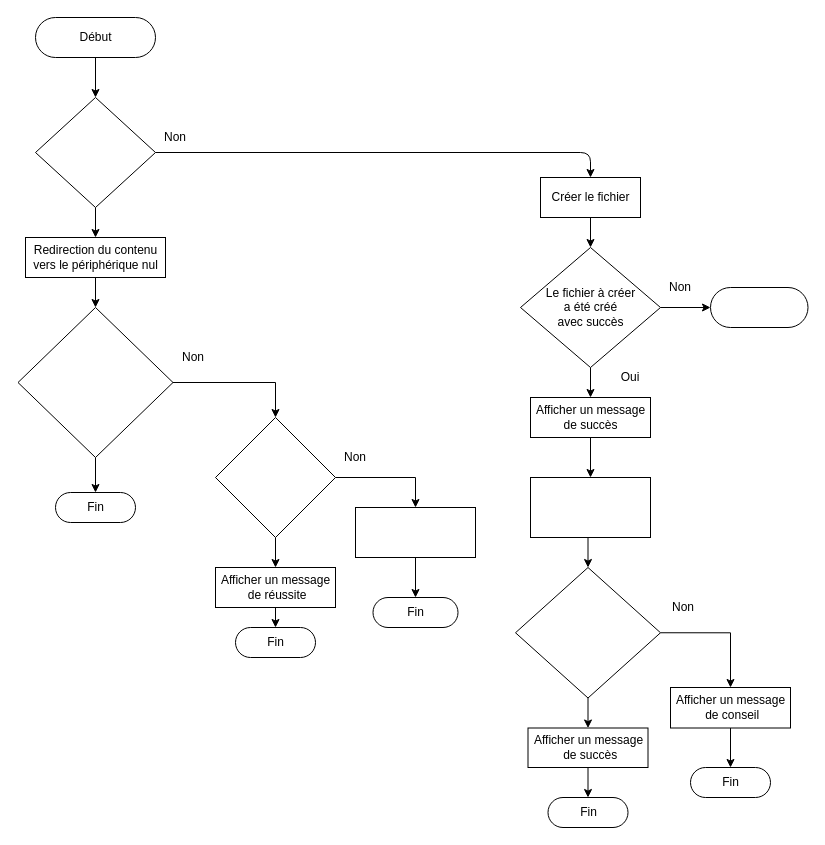
Some shapes in this 825 by 845 pixel diagram are drawn without their labels. The centre of each missing label's shape, as x and y in pixels:
"Afficher un message d'échec (pas d'erreur fatale)" goes at (415,532).
"Changement des droits de lecture et d'écriture" goes at (590,507).
"Fin erreur fatale" goes at (759,307).
"La redirection a fonctionné" goes at (275,477).
"Le changement des droits a bien eu lieu" goes at (587,632).
"Le fichier est vide (sa taille en octet est inférieure à 0)" goes at (95,382).
"Le fichier à créer existe" goes at (95,152).
